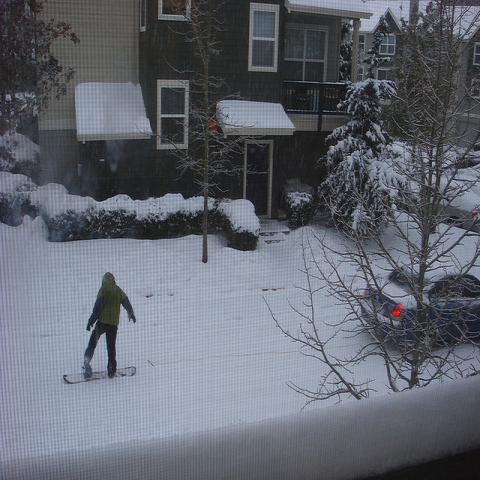car: (361, 264, 479, 351)
